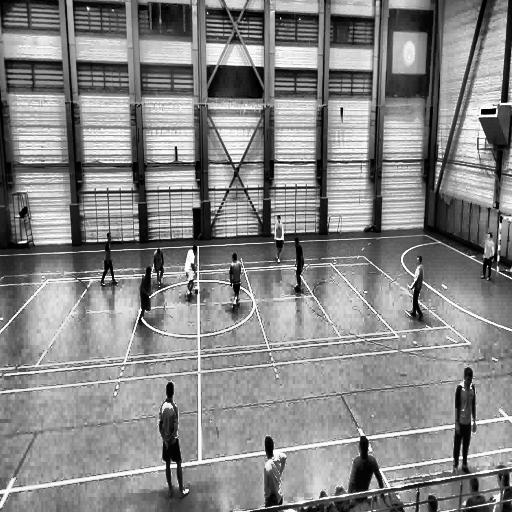ball: (195, 286, 199, 294)
player: (160, 382, 189, 499), (452, 366, 480, 474), (408, 254, 425, 320), (138, 265, 152, 326), (101, 233, 117, 285), (183, 246, 196, 299), (480, 233, 494, 280), (231, 252, 242, 310), (294, 238, 304, 294), (275, 216, 284, 264), (154, 248, 164, 291)
